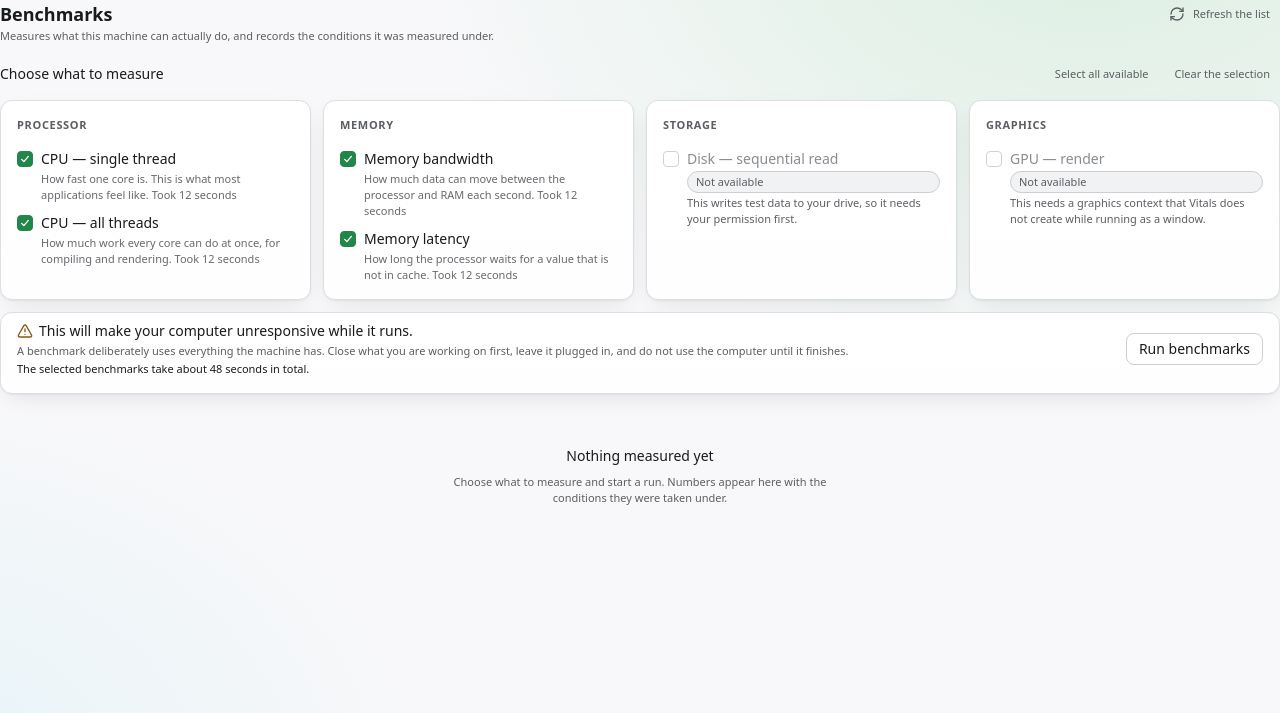
Test: BenchmarksScreen › results › reports the spread as a real figure
Expected: the heading "Benchmarks" is shown, left=0, top=2, right=112, bottom=26
Click the button "Run benchmarks" at point(1194, 349), box left=1126, top=333, right=1263, bottom=365
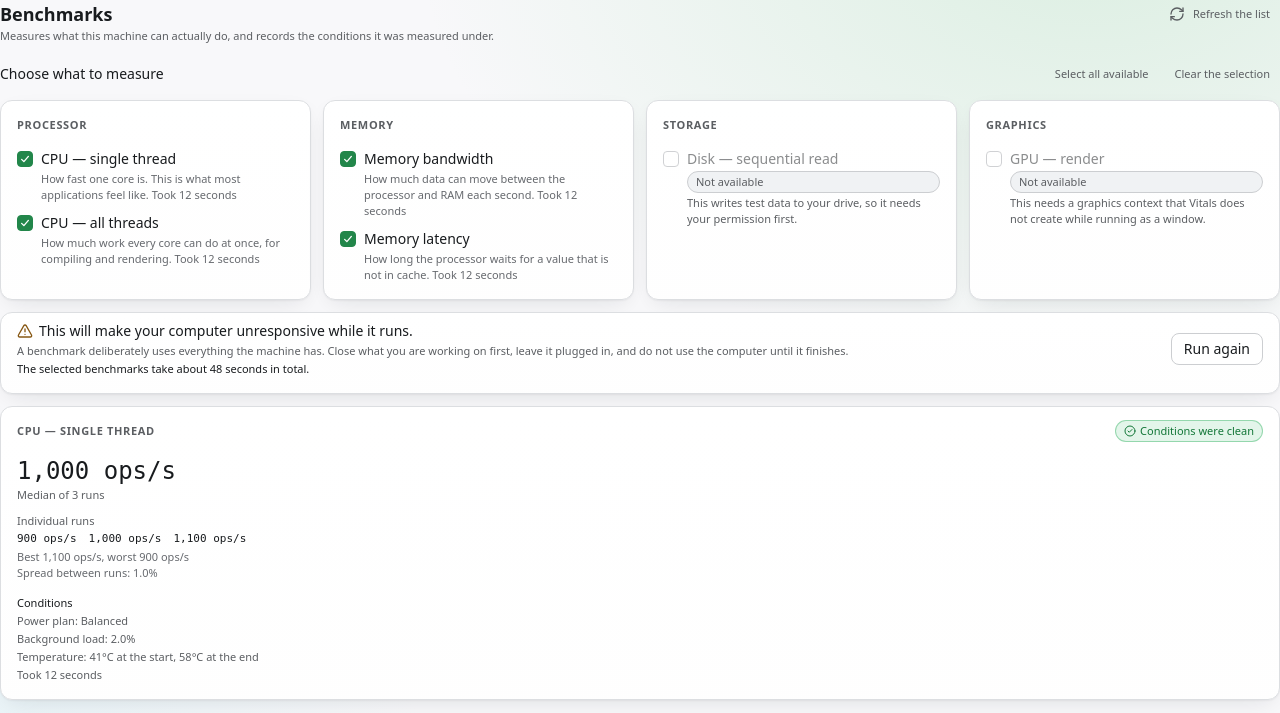
Expected: the text "Best 1,100 ops/s, worst 900 ops/s" is shown, left=17, top=549, right=189, bottom=564
Expected: the text "Spread between runs: 1.0%" is shown, left=17, top=565, right=158, bottom=580
